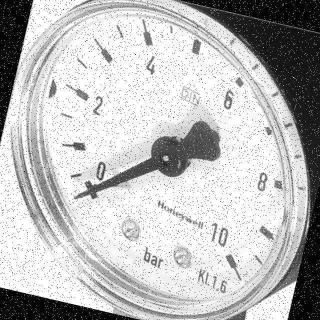gauge: (0, 0, 320, 320), (66, 163, 112, 217), (150, 134, 192, 178), (209, 242, 251, 282), (70, 190, 84, 204)
